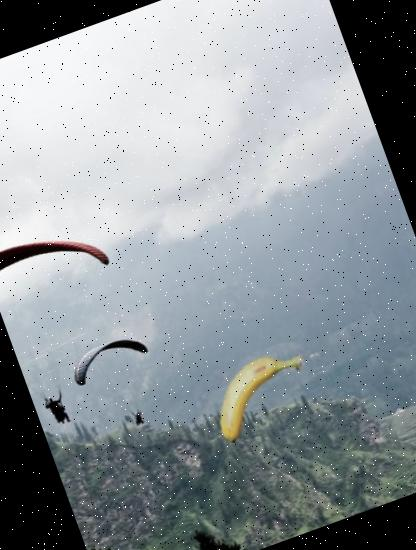Banana: (200, 336, 322, 458)
